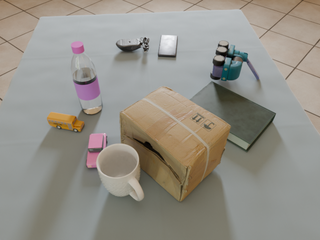book: (189, 81, 276, 152)
bottle: (71, 41, 103, 114)
box: (120, 86, 231, 201)
cup: (96, 144, 144, 201)
mouse: (116, 37, 149, 52)
phone: (158, 35, 178, 57)
toy_car: (210, 41, 259, 81), (47, 112, 84, 132), (86, 133, 107, 168)
